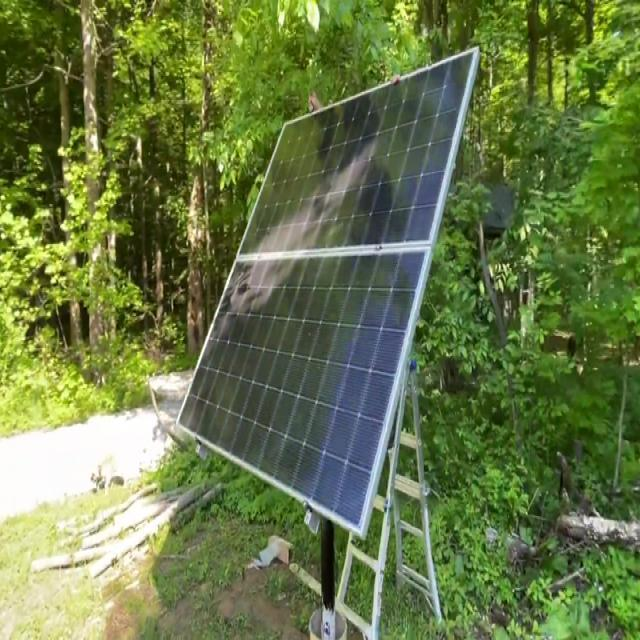Normal Solar Panel: (180, 49, 480, 539)
